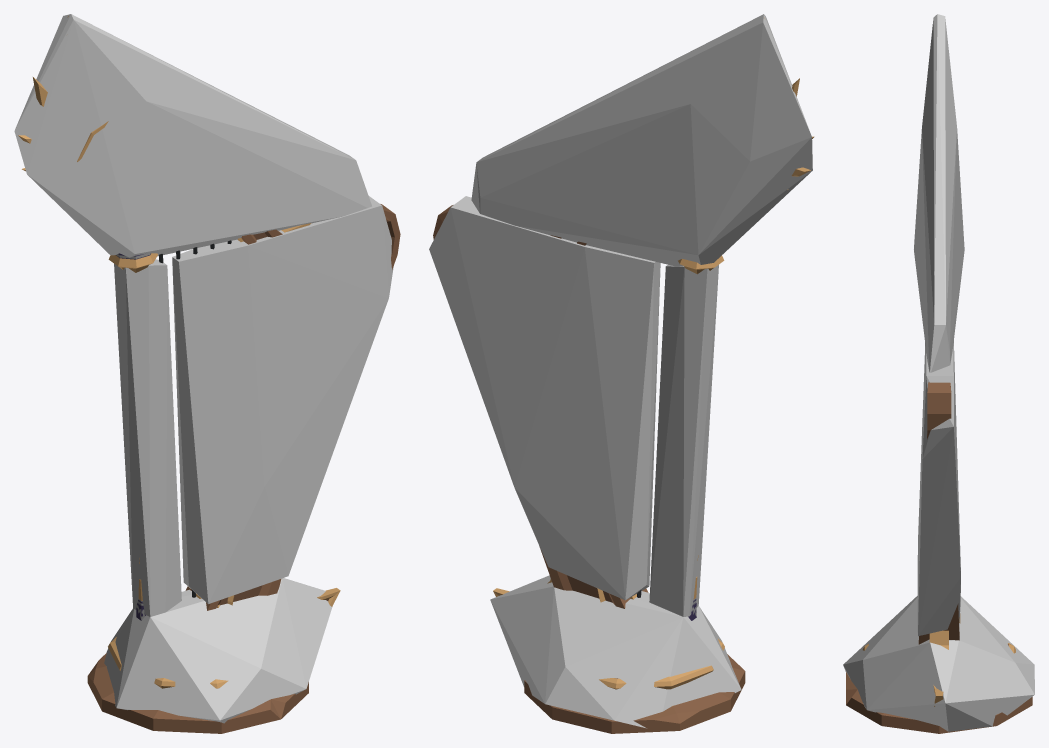
Rendered from SM_Item_Instrument_Harp_01.fbx.
3 views of the same model, side by side, from view 1: azimuth 30°, elevation 25°; view 2: azimuth 150°, elevation 25°; view 3: azimuth 270°, elevation 25° (orthographic). The views are drawn at different scales.
Parts seen in each view (by area): view 1: SM_Item_Instrument_Harp_01_ConvexHulls, SM_Item_Instrument_Harp_01; view 2: SM_Item_Instrument_Harp_01_ConvexHulls, SM_Item_Instrument_Harp_01; view 3: SM_Item_Instrument_Harp_01_ConvexHulls, SM_Item_Instrument_Harp_01.
Boxes of the visible parts, <box> form: SM_Item_Instrument_Harp_01_ConvexHulls: <box>14,14,393,723</box>; SM_Item_Instrument_Harp_01: <box>18,16,400,733</box>; SM_Item_Instrument_Harp_01_ConvexHulls: <box>429,14,812,728</box>; SM_Item_Instrument_Harp_01: <box>433,17,814,733</box>; SM_Item_Instrument_Harp_01_ConvexHulls: <box>843,14,1034,731</box>; SM_Item_Instrument_Harp_01: <box>846,382,1032,733</box>.
Size of the model in its own units: 127 by 62.96 by 226.
2 materials, 1 textured.
